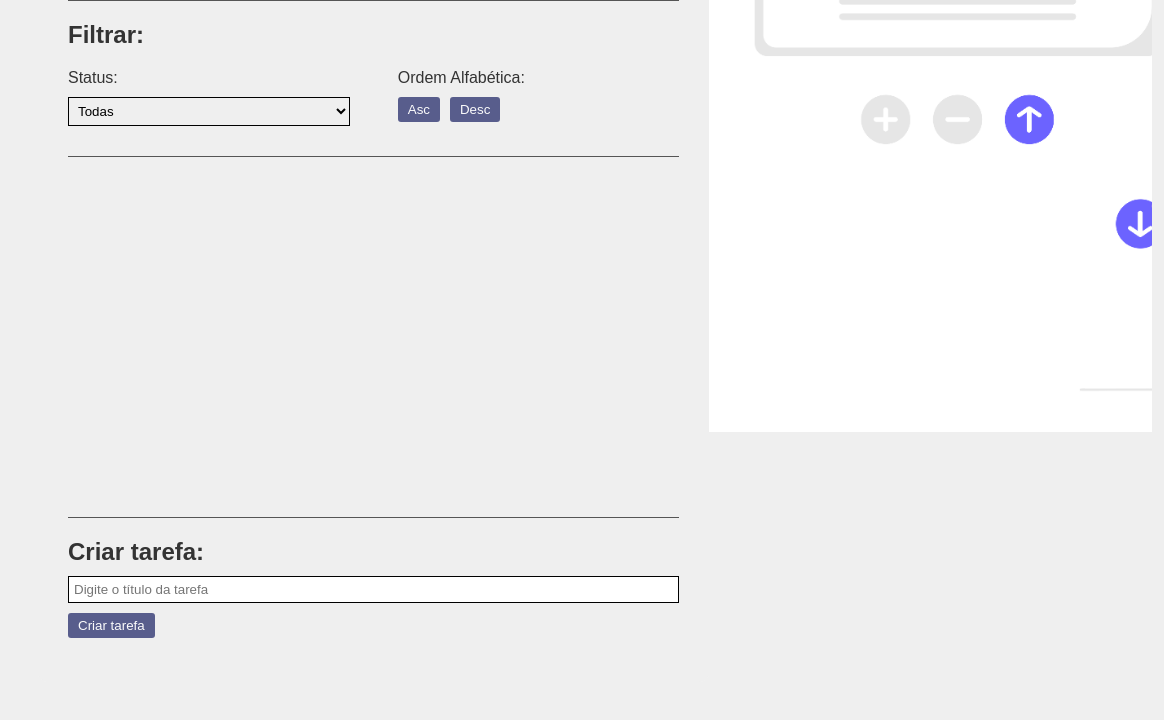
App Component Tests › should search for a todo
The width and height of the screenshot is (1164, 720).
(page scrolled)
Adiciona 1 nova tarefa a lista de tarefas
Type "Comprar arroz" into the field with placeholder "Digite o título da tarefa" at (374, 589), box 68,576 -> 680,603
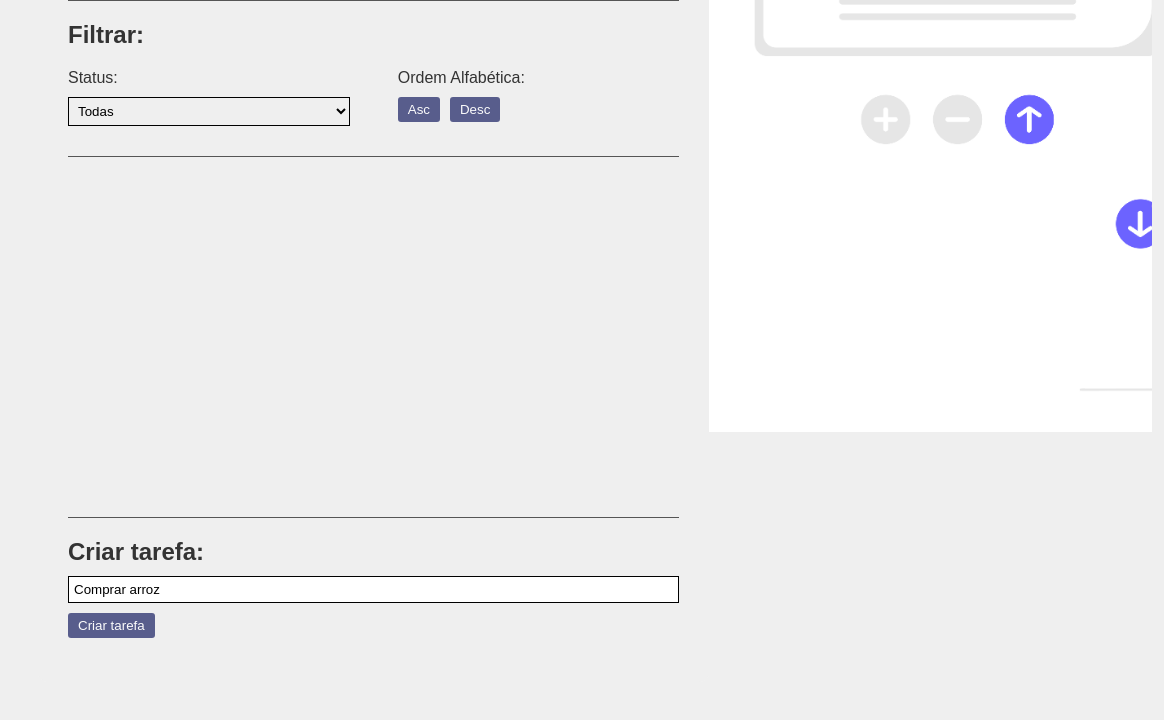
Click the button "Criar tarefa" at (111, 625), box 68,613 -> 155,638
(page scrolled)
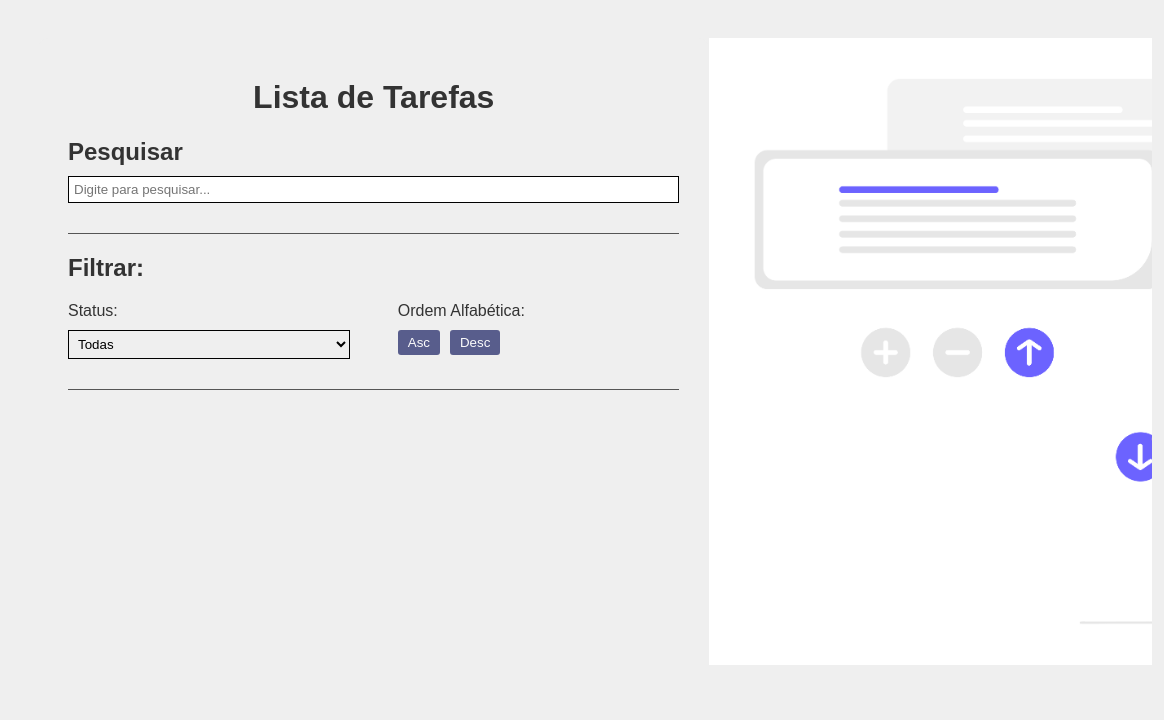
Pesquisa pela tarefa "Comprar arroz"
Type "Comprar arroz" into the field with placeholder "Digite para pesquisar..." at (374, 189), box 68,176 -> 680,203
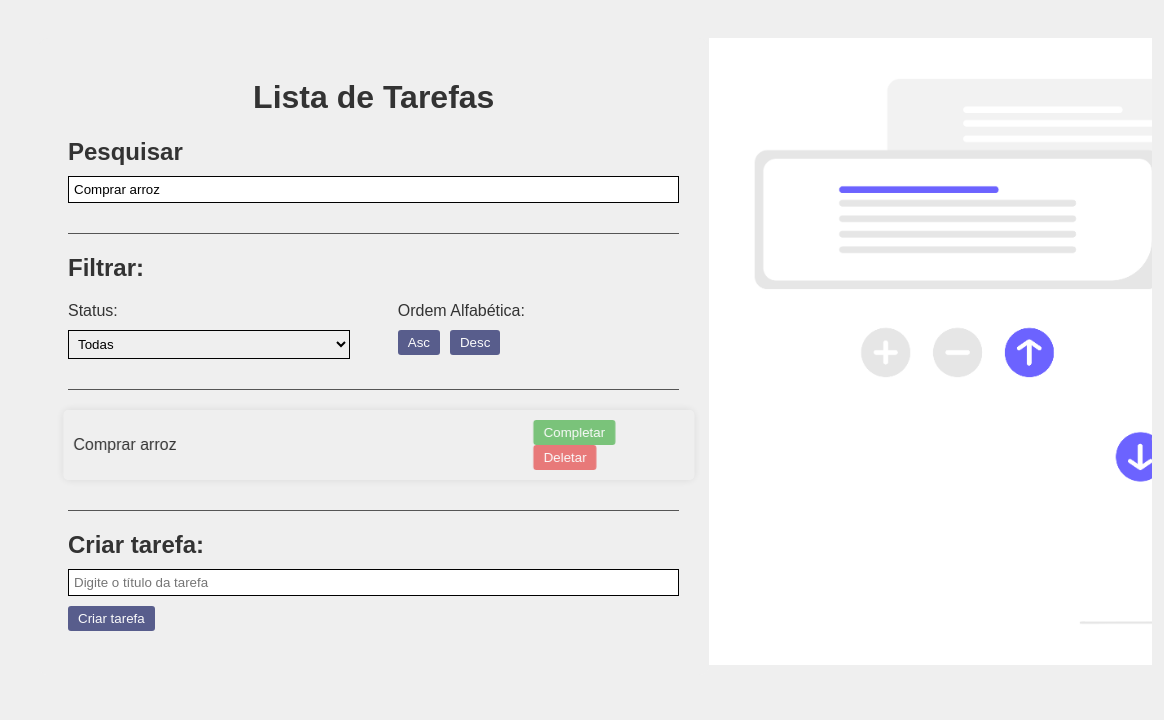
Expected: the text "Comprar arroz" is shown, 73,436 -> 176,453
